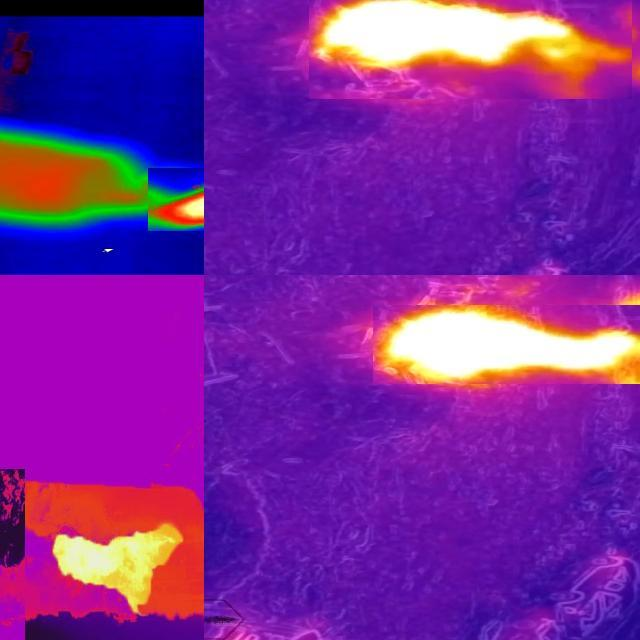fire: (307, 1, 632, 78), (373, 306, 640, 385), (53, 518, 184, 622), (148, 169, 205, 232)
